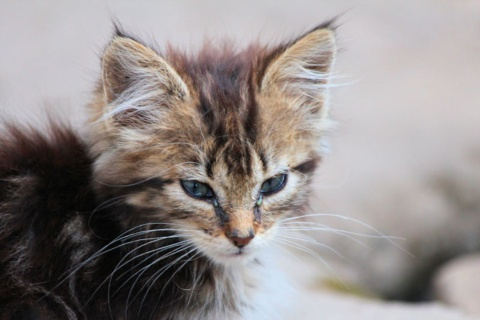Cat: (0, 11, 418, 320)
